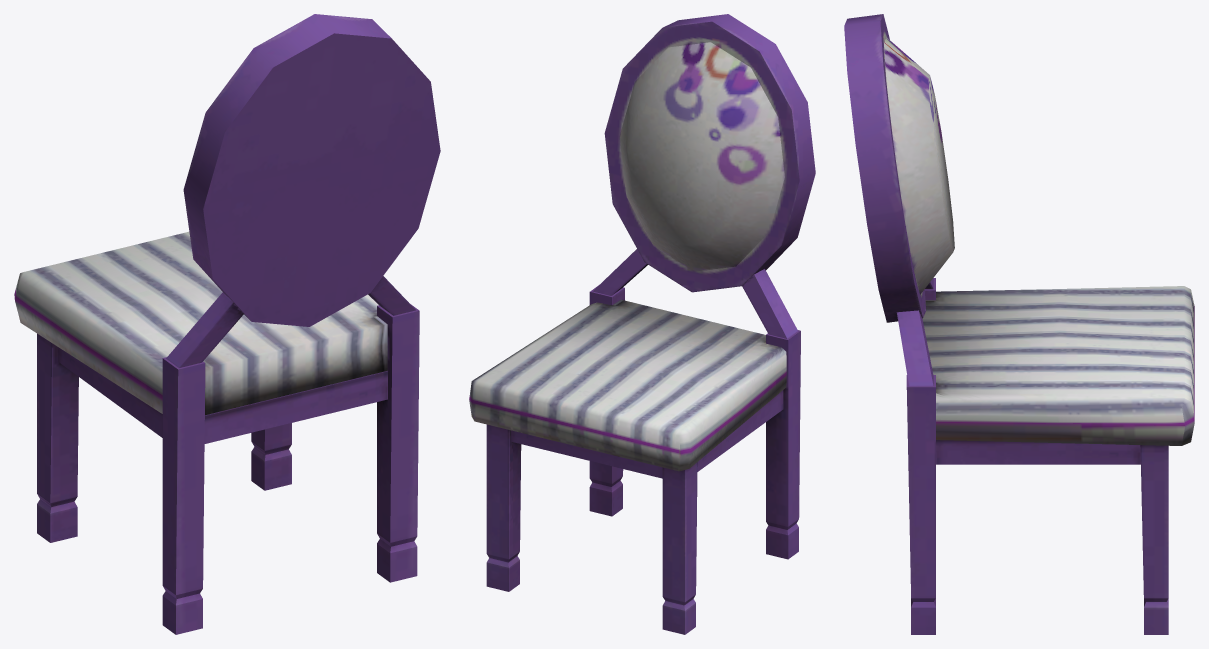
File: furni_0200508_03.FBX
3 renders of one model, left to right at view 1: azimuth 30°, elevation 25°; view 2: azimuth 150°, elevation 25°; view 3: azimuth 270°, elevation 25°, orthographic. The views are drawn at different scales.
Parts seen in each view (by area): view 1: furni_0200508_03; view 2: furni_0200508_03; view 3: furni_0200508_03.
Boxes of the visible parts, x1,y1,x2,y2 form: furni_0200508_03: (14, 14, 440, 634); furni_0200508_03: (469, 14, 815, 634); furni_0200508_03: (844, 14, 1194, 634).
Size of the model in its own units: 49.44 by 106 by 60.22.
1 material, 1 textured.
